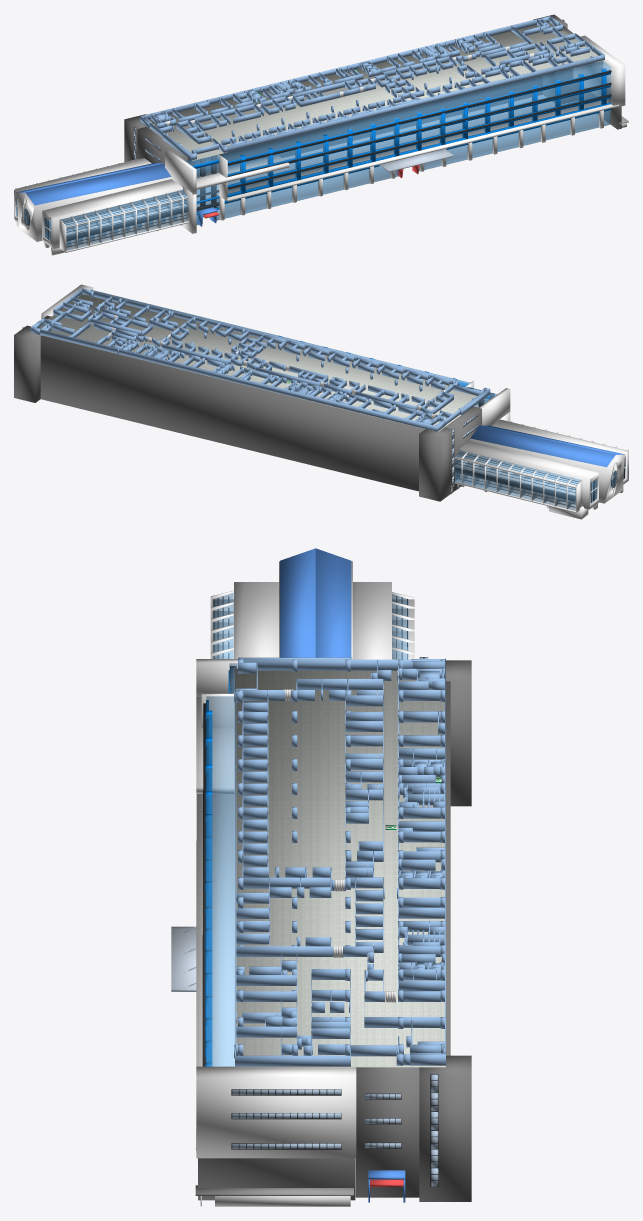
File: ob_7f_mini.gltf
3 views of the same model, one above another, from view 1: azimuth 30°, elevation 25°; view 2: azimuth 150°, elevation 25°; view 3: azimuth 270°, elevation 25° (orthographic). The views are drawn at different scales.
Visible parts, largest first — view 1: ob_waiguan_7f_213, ob_dimian_7f, ob_waiguan_7f_35, ob_waiguan_7f_21, ob_waiguan_7f_48, ob_waiguan_7f_214, ob_waiguan_7f_41, ob_qiang_7f_307, ob_waiguan_7f_40, ob_waiguan_7f_111, ob_qiang_7f_320, ob_waiguan_7f_216 (+27 smaller); view 2: ob_waiguan_7f_35, ob_dimian_7f, ob_waiguan_7f_29, ob_waiguan_7f_217, ob_qiang_7f_320, ob_waiguan_7f_178, ob_waiguan_7f_100, ob_waiguan_7f_190, ob_waiguan_7f_216, ob_qiang_7f_311, ob_waiguan_7f_214, ob_waiguan_7f_191 (+8 smaller); view 3: ob_dimian_7f, ob_waiguan_7f_45, ob_waiguan_7f_213, ob_waiguan_7f_48, ob_waiguan_7f_188, ob_waiguan_7f_190, ob_waiguan_7f_187, ob_waiguan_7f_100, ob_waiguan_7f_111, ob_waiguan_7f_214, ob_waiguan_7f_178, ob_waiguan_7f_217 (+17 smaller).
Part boxes in pixels (box(x1,y1,x2,y2)): ob_waiguan_7f_213: box(220, 61, 610, 194); ob_dimian_7f: box(140, 22, 604, 160); ob_waiguan_7f_35: box(188, 25, 542, 174); ob_waiguan_7f_21: box(61, 190, 188, 250); ob_waiguan_7f_48: box(227, 100, 618, 201); ob_waiguan_7f_214: box(42, 179, 182, 248); ob_waiguan_7f_41: box(419, 110, 610, 171); ob_qiang_7f_307: box(228, 58, 592, 152); ob_waiguan_7f_40: box(224, 166, 398, 218); ob_waiguan_7f_111: box(26, 163, 171, 205); ob_qiang_7f_320: box(140, 18, 539, 119); ob_waiguan_7f_216: box(16, 177, 171, 241); ob_waiguan_7f_35: box(40, 335, 424, 491); ob_dimian_7f: box(30, 294, 477, 431); ob_waiguan_7f_29: box(455, 450, 580, 510); ob_waiguan_7f_217: box(460, 441, 598, 509); ob_qiang_7f_320: box(40, 329, 437, 431); ob_waiguan_7f_178: box(419, 427, 453, 501); ob_waiguan_7f_100: box(470, 425, 615, 467); ob_waiguan_7f_190: box(14, 325, 41, 402); ob_waiguan_7f_216: box(470, 438, 624, 503); ob_qiang_7f_311: box(93, 291, 455, 384); ob_waiguan_7f_214: box(492, 419, 628, 487); ob_waiguan_7f_191: box(445, 406, 481, 491); ob_dimian_7f: box(235, 668, 445, 1067); ob_waiguan_7f_45: box(196, 1066, 356, 1158); ob_waiguan_7f_213: box(206, 696, 234, 1066); ob_waiguan_7f_48: box(196, 794, 234, 1150); ob_waiguan_7f_188: box(355, 1067, 419, 1197); ob_waiguan_7f_190: box(419, 1055, 471, 1201); ob_waiguan_7f_187: box(198, 1158, 355, 1200); ob_waiguan_7f_100: box(315, 548, 351, 657); ob_waiguan_7f_111: box(280, 548, 315, 657); ob_waiguan_7f_214: box(234, 582, 278, 658); ob_waiguan_7f_178: box(446, 660, 471, 806); ob_waiguan_7f_217: box(353, 582, 391, 659).
Size of the model in its own units: 398 by 46.44 by 90.94.
Materials: 25 (10 with a texture image).
